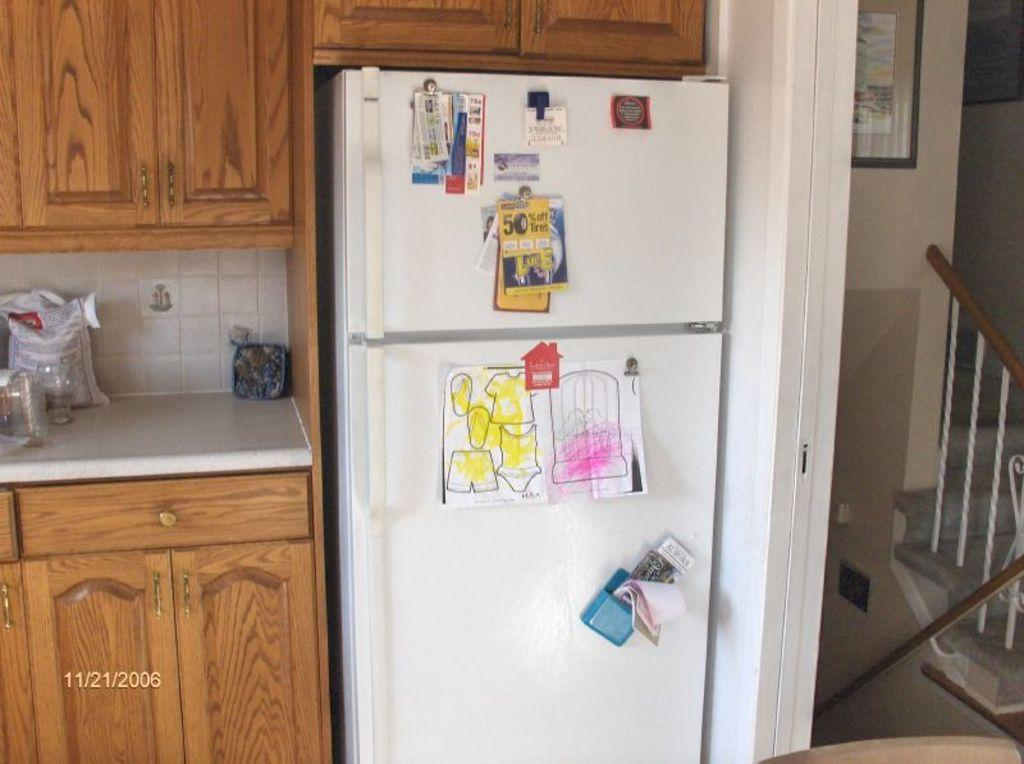cabinet_door: (18, 7, 158, 225), (161, 4, 292, 227), (180, 562, 307, 764), (54, 557, 172, 764), (27, 478, 305, 540), (320, 0, 510, 58), (537, 3, 701, 66)
handle: (358, 347, 396, 748), (352, 71, 394, 348), (145, 565, 167, 625), (0, 576, 19, 638), (162, 162, 184, 214), (180, 572, 198, 627), (138, 164, 154, 212), (156, 506, 178, 533)
